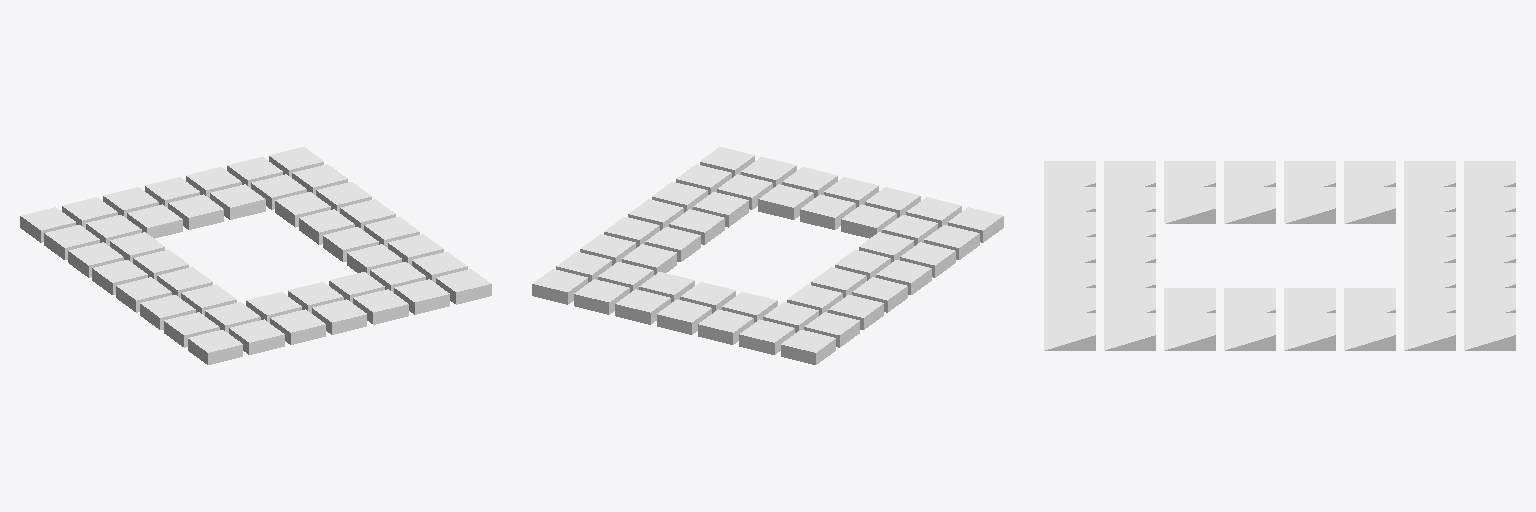
robot.urdf — square_1:
<robot name="square_1">
  <link name="base_link">
    <visual>
      <origin xyz="0 0 0" rpy="0 0 0" />
      <geometry>
        <mesh filename="package://hpp_environments/meshes/multicontact/daeun/1_scene_square.stl"/>
      </geometry>
      <material name="white">
        <color rgba="1 1 1 1"/>
      </material>
    </visual>
    <collision>
      <origin xyz="0 0 0" rpy="0 0 0" />
      <geometry>
        <mesh filename="package://hpp_environments/meshes/multicontact/daeun/1_scene_square.stl"/>
      </geometry>
    </collision>
  </link>
</robot>

--- What the picture shows (computed from the rendered views, not written in the file) ---
The picture shows the robot from 3 angles, left to right: view 1: azimuth 30°, elevation 25°; view 2: azimuth 150°, elevation 25°; view 3: azimuth 270°, elevation 25°; orthographic projection.
Model square_1 with 1 links and 0 joints (none), rooted at base_link, posed every joint at zero.
Visible links, largest first — view 1: base_link; view 2: base_link; view 3: base_link.
Boxes of the visible links, x1,y1,x2,y2 form: base_link: [20, 147, 491, 364]; base_link: [532, 147, 1003, 364]; base_link: [1044, 161, 1515, 350].
Bounding box of the posed robot: 2.4 × 2.75 × 0.1 m (x, y, z).
Meshes: 1 distinct files referenced, 1 mesh visuals loaded (1 binary STL).
